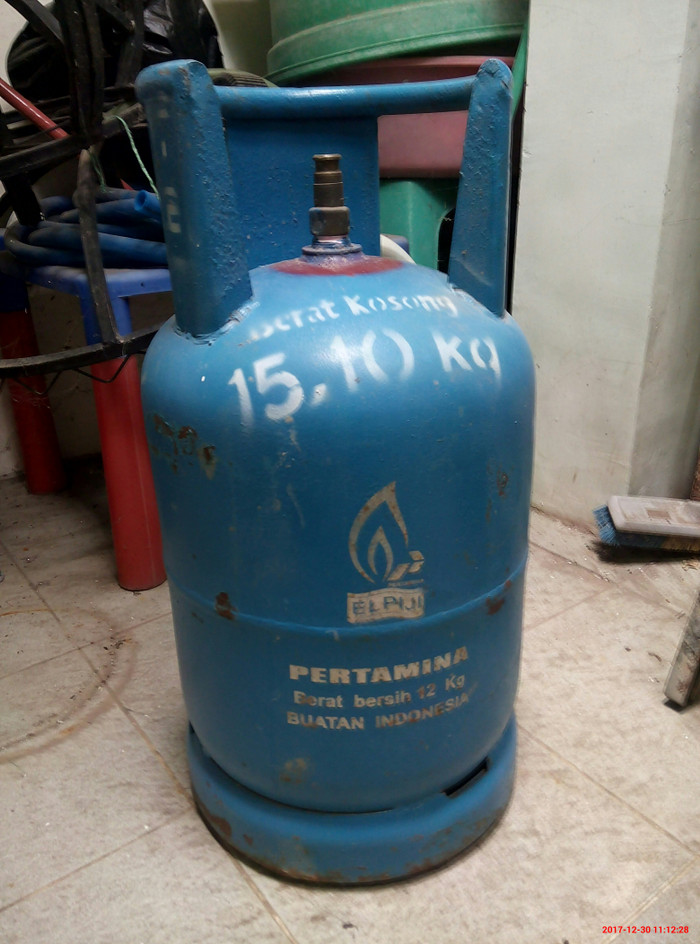blue_gas: (135, 59, 538, 889)
